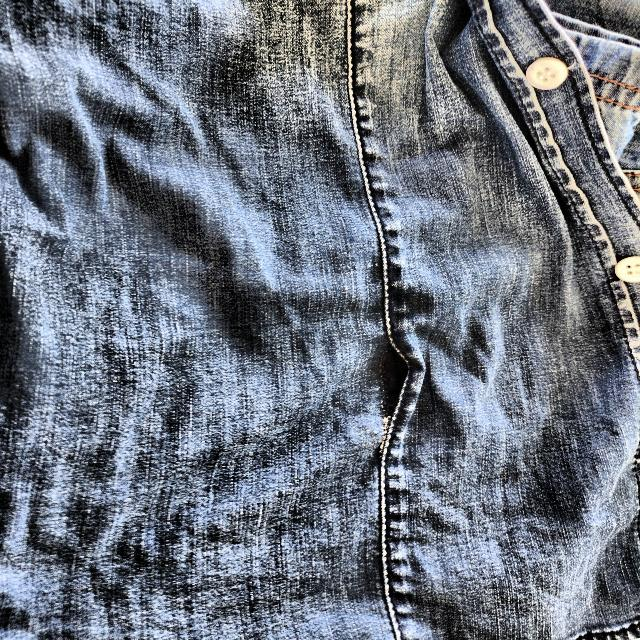seam: (373, 311, 437, 429)
